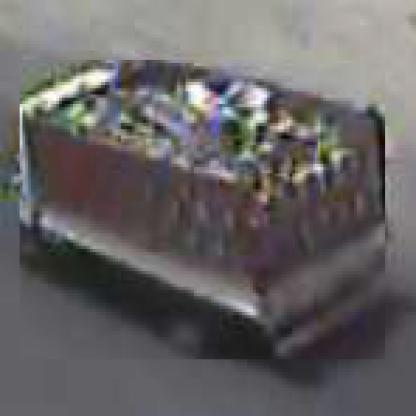truck: (21, 61, 389, 363)
